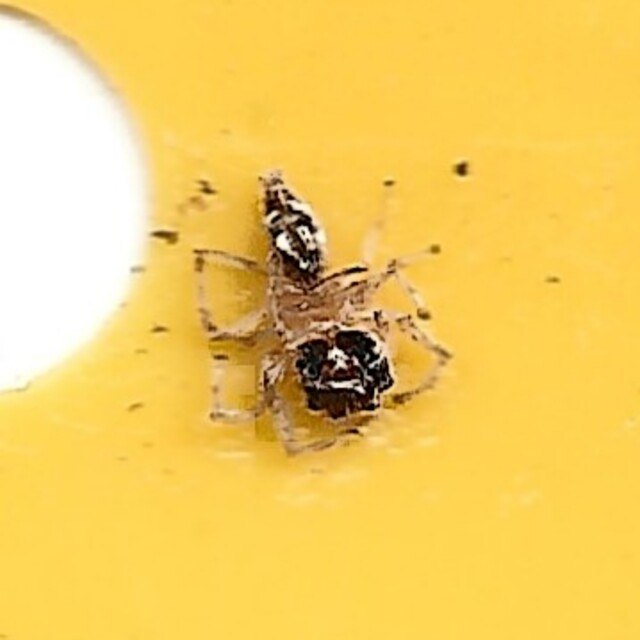Araneae: (178, 174, 462, 466)
